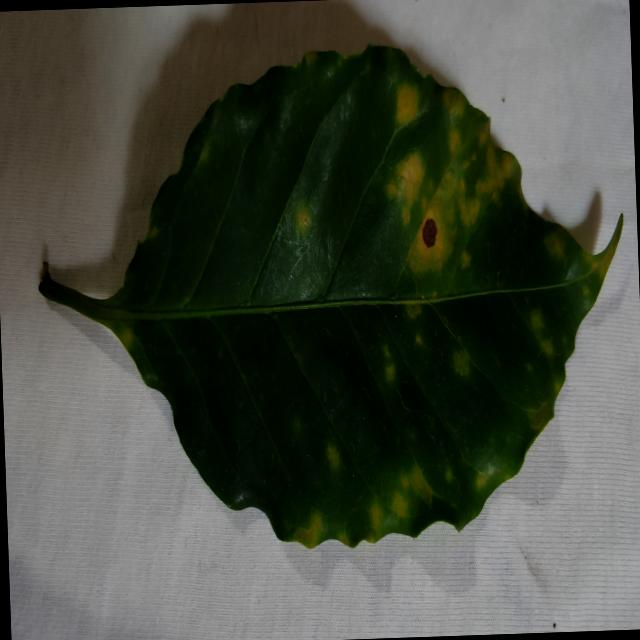KaratDaunKopi: (408, 188, 449, 273), (395, 152, 423, 224), (292, 510, 323, 547), (396, 83, 418, 124), (460, 191, 480, 226), (543, 231, 564, 259), (453, 349, 470, 376), (392, 492, 408, 516), (297, 208, 310, 233), (327, 443, 340, 468), (369, 503, 382, 527), (385, 363, 395, 381)
